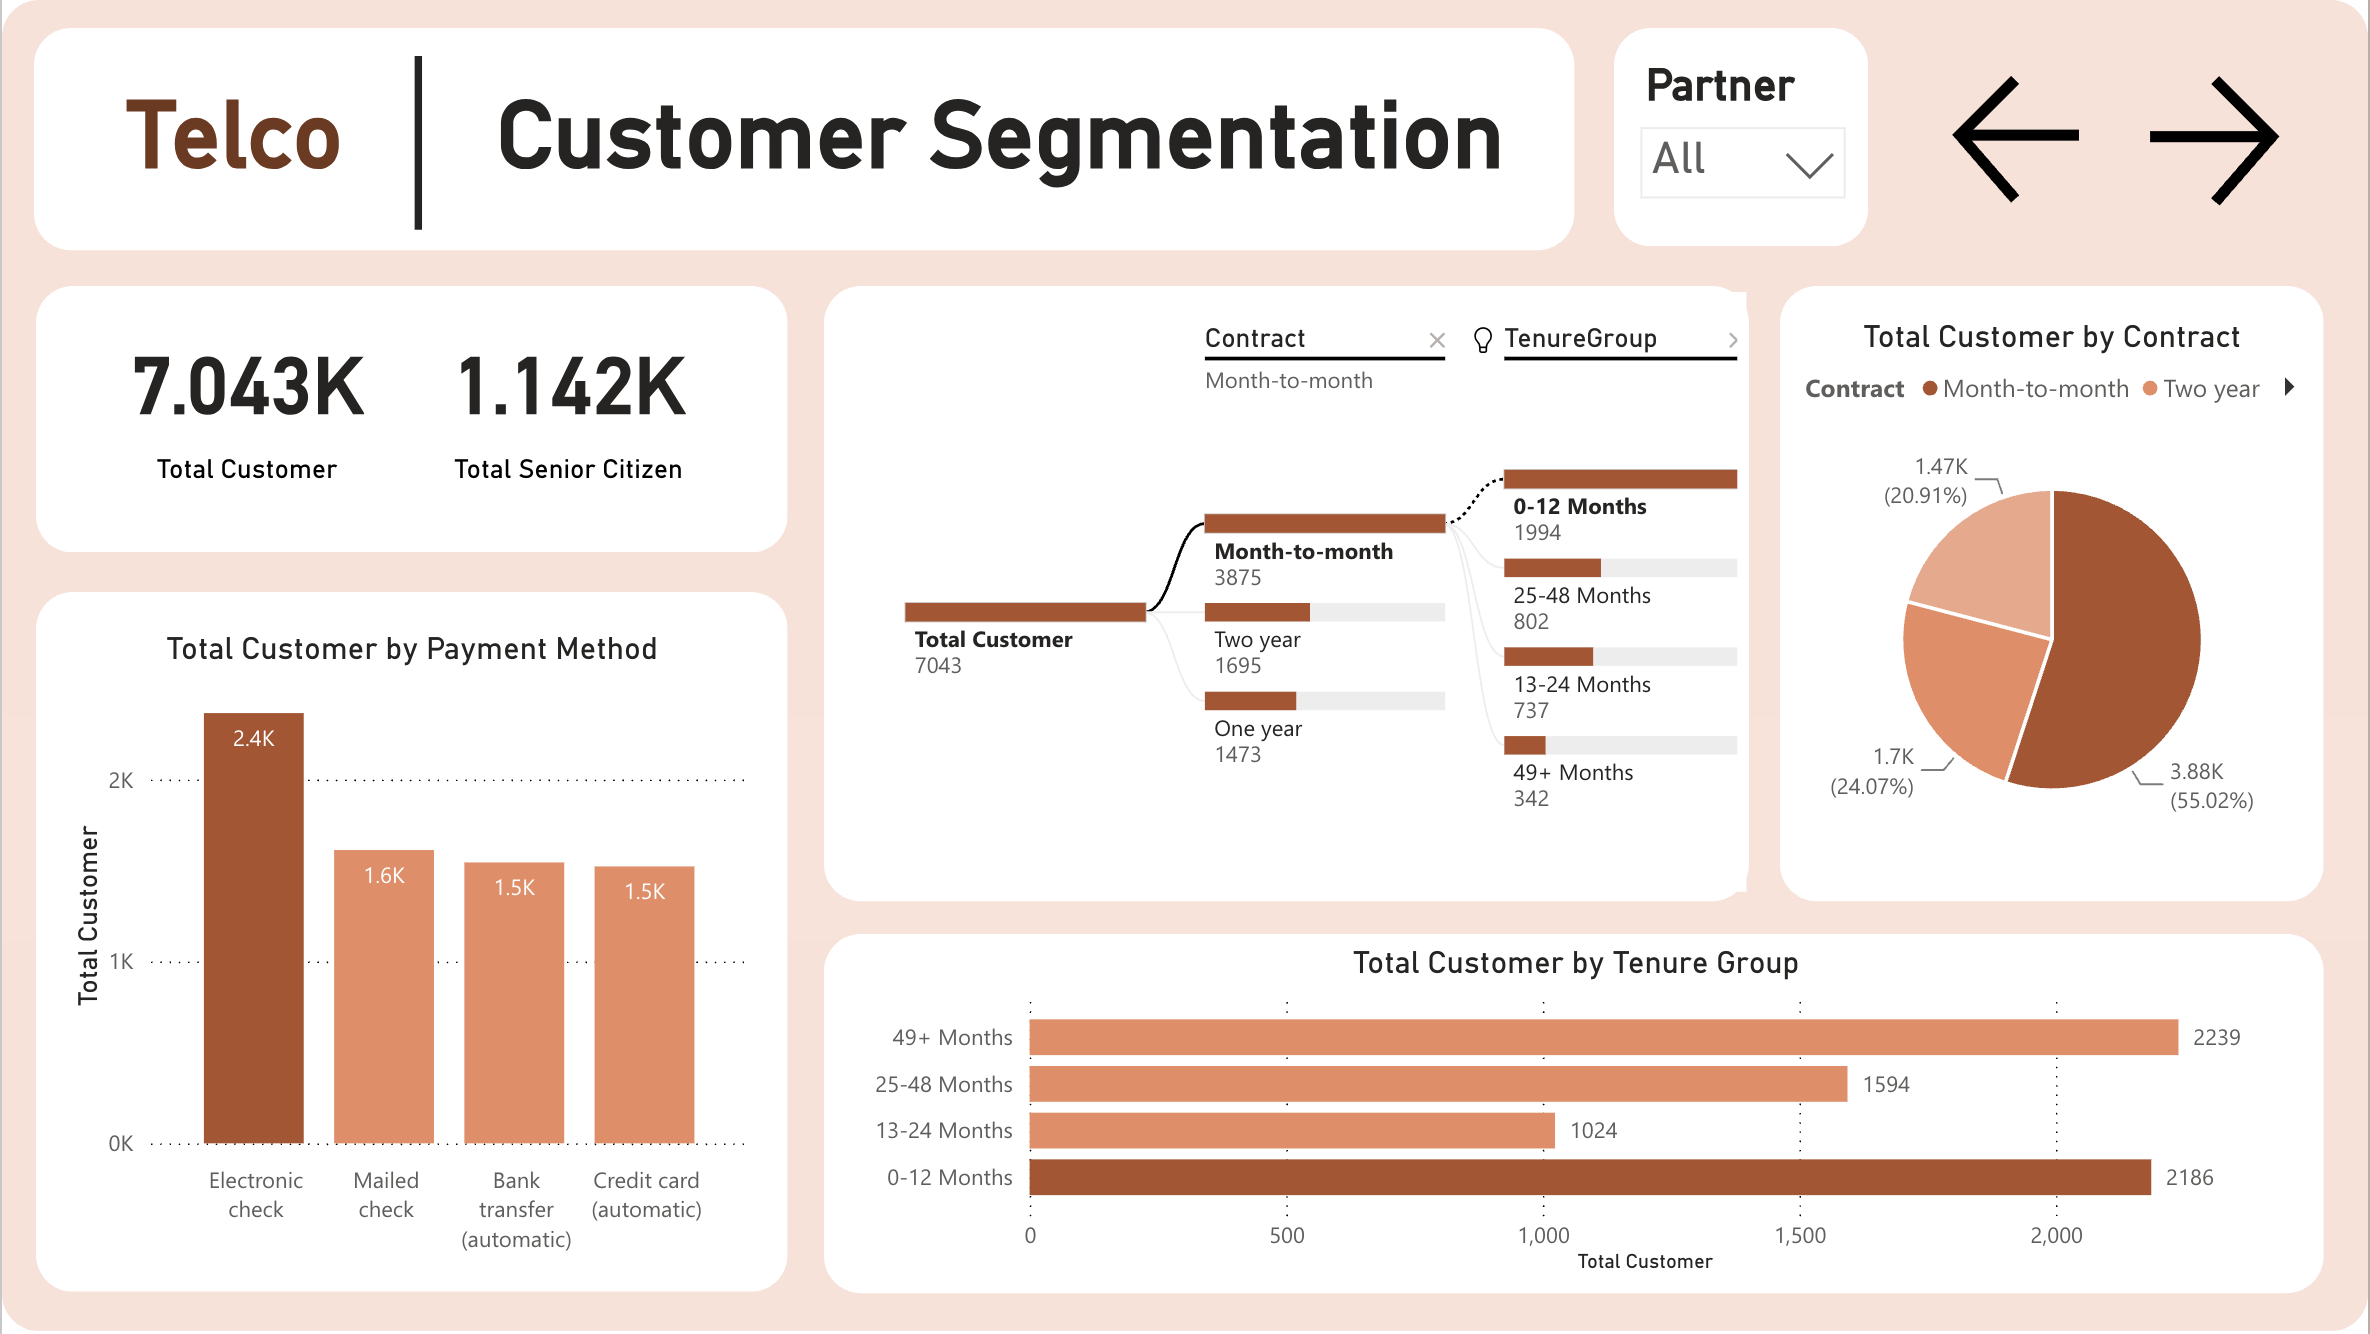

Layout of this report page (visuals, bound fields, positions):
{"tool":"powerbi","page":{"name":"Customer Segmentation","canvas":[1280,720],"ordinal":1},"visuals":[{"type":"shape","box":[0,0,1280,720.1],"z":0},{"type":"shape","box":[17.2,15,833.3,120.3],"z":1000},{"type":"textbox","box":[62.1,44.1,168.3,84.1],"z":2000},{"type":"textbox","box":[262.8,44.9,562,83.3],"z":3000},{"type":"shape","box":[160.3,30,130.2,94.1],"z":4000},{"type":"shape","box":[871.9,15,137.4,118.1],"z":5000},{"type":"slicer","fields":{"Values":["Telco Customer Churn Dataset.Partner"]},"box":[876.2,30.1,131,98.8],"z":6000},{"type":"actionButton","box":[1153.9,34.2,102.6,83.3],"z":7000},{"type":"shape","box":[444.6,154.6,500.4,332.9],"z":8000},{"type":"shape","box":[18,320.5,406.6,378.6],"z":9000},{"type":"decompositionTreeVisual","fields":{"Analyze":["CountNonNull(Telco Customer Churn Dataset.customerID)"],"ExplainBy":["Telco Customer Churn Dataset.Contract","Telco Customer Churn Dataset.TenureGroup"]},"box":[458.7,158.2,484.8,324.5],"z":10000},{"type":"columnChart","fields":{"Category":["Telco Customer Churn Dataset.PaymentMethod"],"Y":["CountNonNull(Telco Customer Churn Dataset.customerID)"]},"box":[34.1,342.5,376.6,342.5],"z":11000},{"type":"shape","box":[444.7,504.8,811.3,194.3],"z":12000},{"type":"clusteredBarChart","fields":{"Category":["Telco Customer Churn Dataset.TenureGroup"],"Y":["CountNonNull(Telco Customer Churn Dataset.customerID)"]},"box":[460.7,512.8,781.2,180.3],"z":13000},{"type":"shape","box":[962.1,154.6,294.2,332.9],"z":14000},{"type":"pieChart","fields":{"Category":["Telco Customer Churn Dataset.Contract"],"Y":["CountNonNull(Telco Customer Churn Dataset.customerID)"]},"box":[970.7,174,277,298.5],"z":15000},{"type":"shape","box":[18,154.2,406.6,144.2],"z":16000},{"type":"cardVisual","fields":{"Data":["CountNonNull(Telco Customer Churn Dataset.customerID)","Sum(Telco Customer Churn Dataset.SeniorCitizen)"]},"box":[32.2,174,375.8,113.8],"z":17000},{"type":"actionButton","box":[1050.2,34.4,103.1,81.6],"z":18000}]}

Visuals, with their boxes in screenshot pixels (x1, y1, x2, y2), scaled from the page's 1280x720 canvas onto the 2370x1334 screenshot:
shape: (x1=0, y1=0, x2=2369, y2=1333)
shape: (x1=32, y1=28, x2=1575, y2=251)
textbox: (x1=115, y1=82, x2=427, y2=238)
textbox: (x1=487, y1=83, x2=1527, y2=238)
shape: (x1=297, y1=56, x2=538, y2=230)
shape: (x1=1614, y1=28, x2=1869, y2=247)
slicer - Telco Customer Churn Dataset.Partner: (x1=1622, y1=56, x2=1865, y2=239)
actionButton: (x1=2137, y1=63, x2=2326, y2=218)
shape: (x1=823, y1=286, x2=1750, y2=903)
shape: (x1=33, y1=594, x2=786, y2=1295)
decompositionTreeVisual - CountNonNull(Telco Customer Churn Dataset.customerID) x Telco Customer Churn Dataset.Contract: (x1=849, y1=293, x2=1747, y2=894)
columnChart - Telco Customer Churn Dataset.PaymentMethod x CountNonNull(Telco Customer Churn Dataset.customerID): (x1=63, y1=635, x2=760, y2=1269)
shape: (x1=823, y1=935, x2=2326, y2=1295)
clusteredBarChart - Telco Customer Churn Dataset.TenureGroup x CountNonNull(Telco Customer Churn Dataset.customerID): (x1=853, y1=950, x2=2299, y2=1284)
shape: (x1=1781, y1=286, x2=2326, y2=903)
pieChart - Telco Customer Churn Dataset.Contract x CountNonNull(Telco Customer Churn Dataset.customerID): (x1=1797, y1=322, x2=2310, y2=875)
shape: (x1=33, y1=286, x2=786, y2=553)
cardVisual - CountNonNull(Telco Customer Churn Dataset.customerID) x Sum(Telco Customer Churn Dataset.SeniorCitizen): (x1=60, y1=322, x2=755, y2=533)
actionButton: (x1=1945, y1=64, x2=2135, y2=215)
